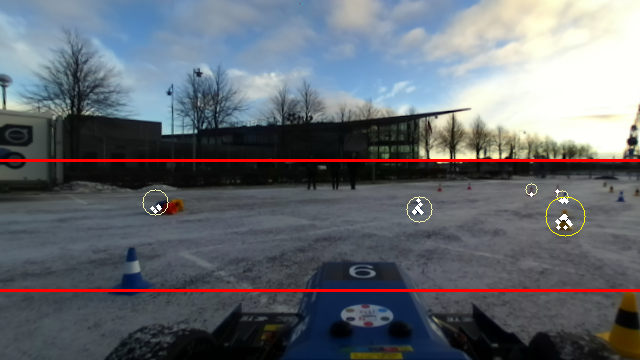blue: (109, 244, 152, 295), (410, 196, 425, 215), (559, 191, 569, 205), (616, 190, 625, 203)
yellow: (555, 210, 571, 232)
